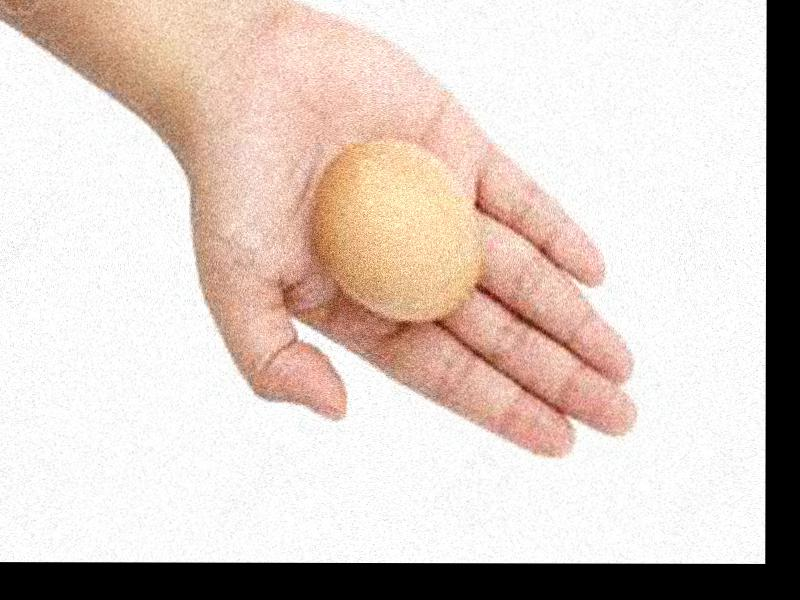Eggs: (311, 139, 477, 320)
